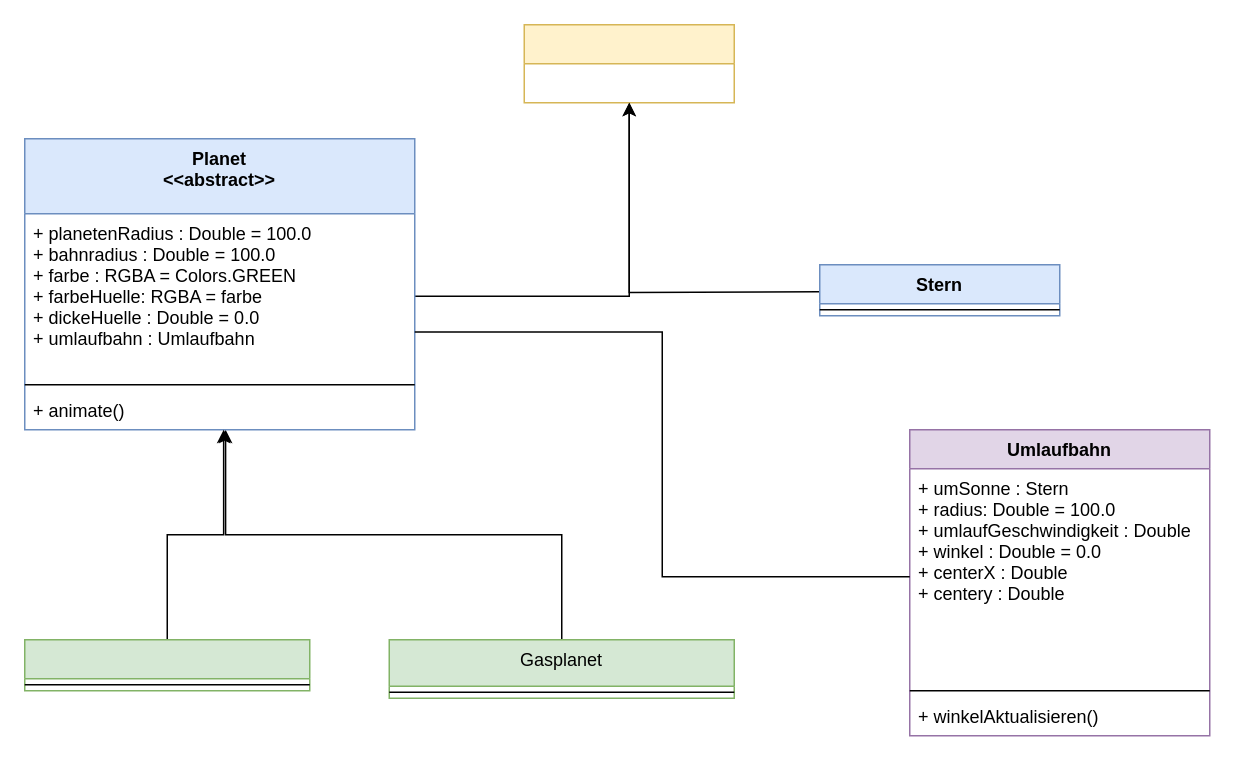
This 1235x761 diagram has some shape labels left out. Here are the shapes that lost their labels. From the top down, the centre of each, then its label:
pixel 628 63: Circle
pixel 166 664: Gesteinsplanet
